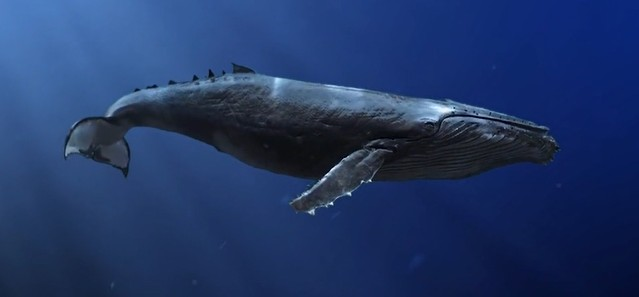whale: (63, 62, 548, 215)
